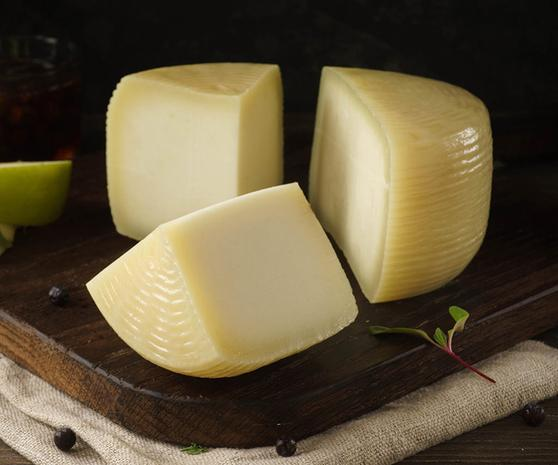cheese: (78, 185, 360, 385)
